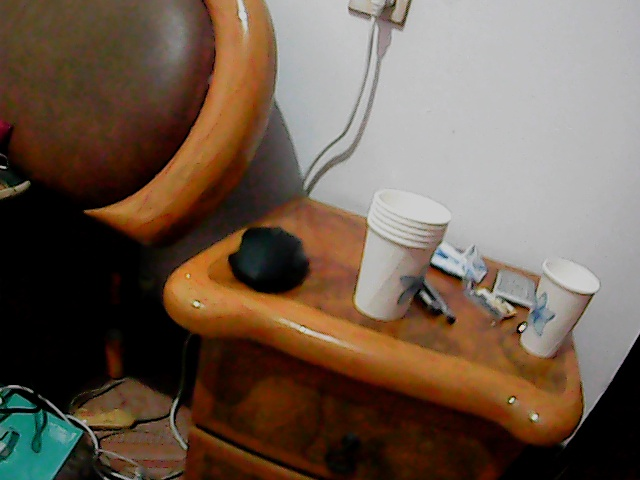cup: (355, 189, 446, 324)
mouse: (228, 225, 312, 291)
